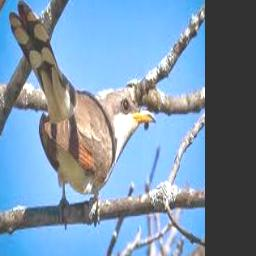Cuckoo: (10, 0, 156, 207)
